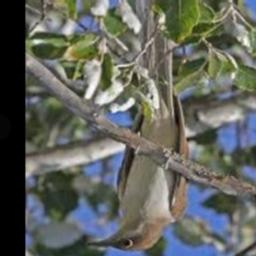Cuckoo: (87, 2, 189, 250)
